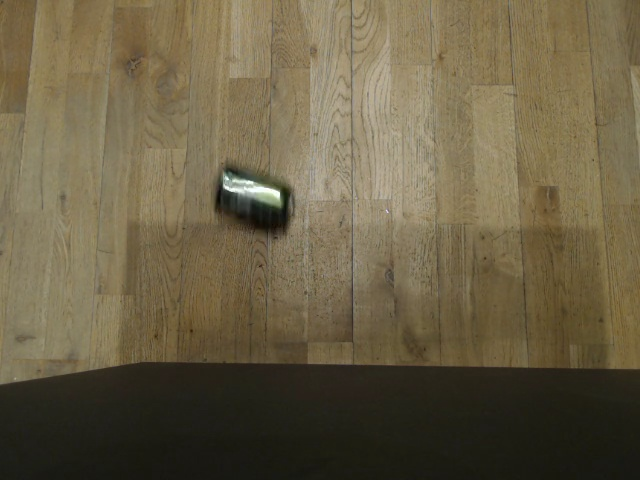beer: (209, 162, 299, 239)
